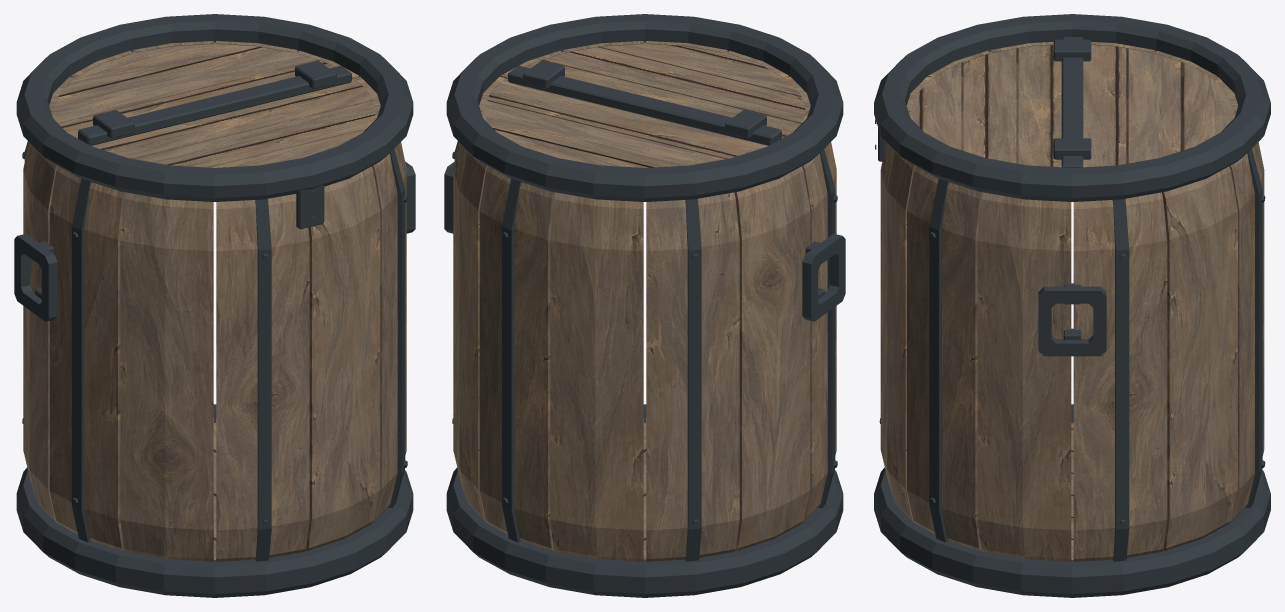
Rendered from aether_barrel_shape_endfield.glb.
3 views of the same model, side by side, from view 1: azimuth 30°, elevation 25°; view 2: azimuth 150°, elevation 25°; view 3: azimuth 270°, elevation 25° (orthographic).
Visible parts, largest first — view 1: aether_barrel_shape_endfield; view 2: aether_barrel_shape_endfield; view 3: aether_barrel_shape_endfield.
Boxes of the visible parts, x1=… form: aether_barrel_shape_endfield: x1=14, y1=14, x2=415, y2=597; aether_barrel_shape_endfield: x1=444, y1=14, x2=845, y2=597; aether_barrel_shape_endfield: x1=874, y1=14, x2=1270, y2=597.
Size of the model in its own units: 0.964 by 1.06 by 0.902.
Materials: 2 (1 with a texture image).
